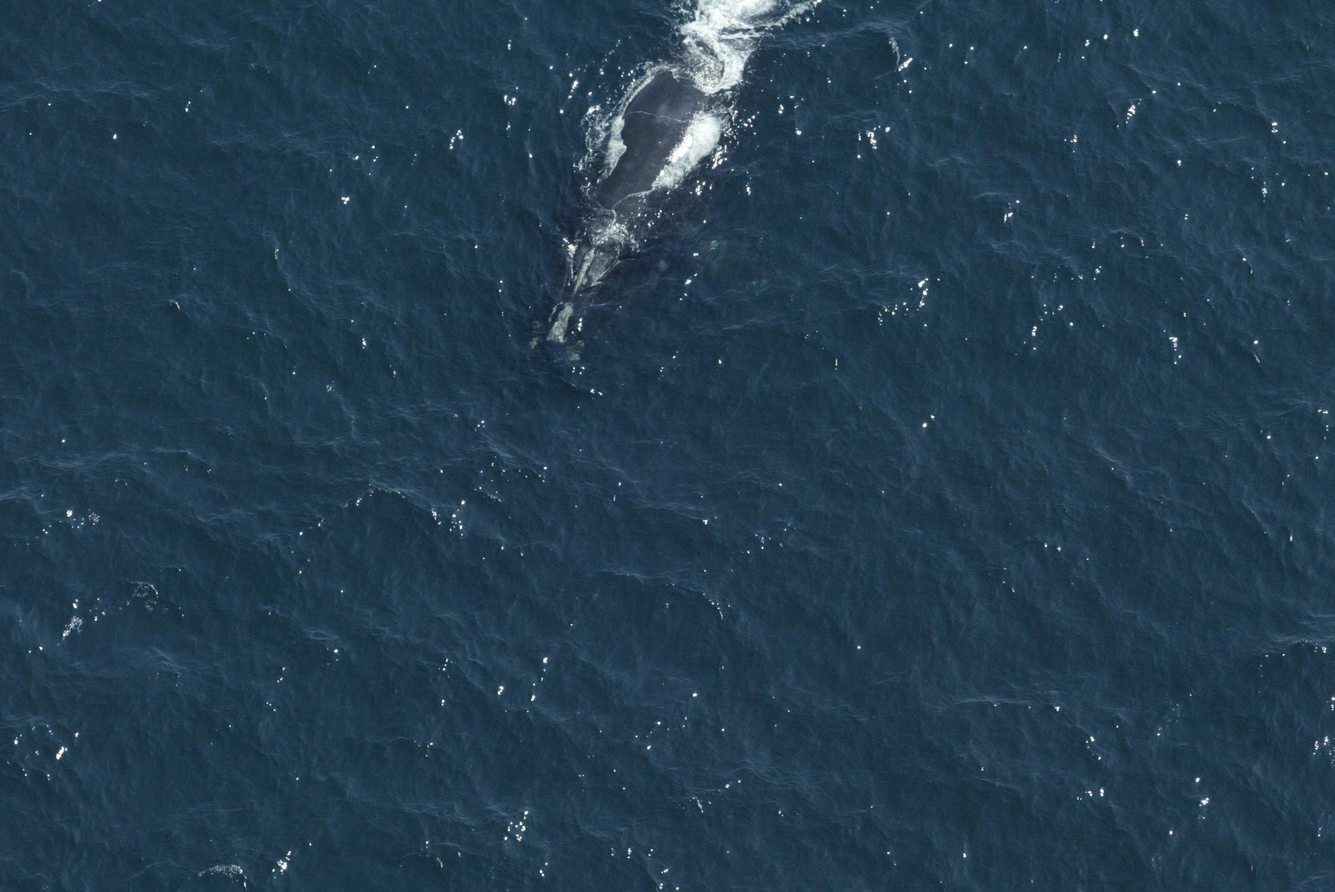whale: (513, 0, 796, 382)
